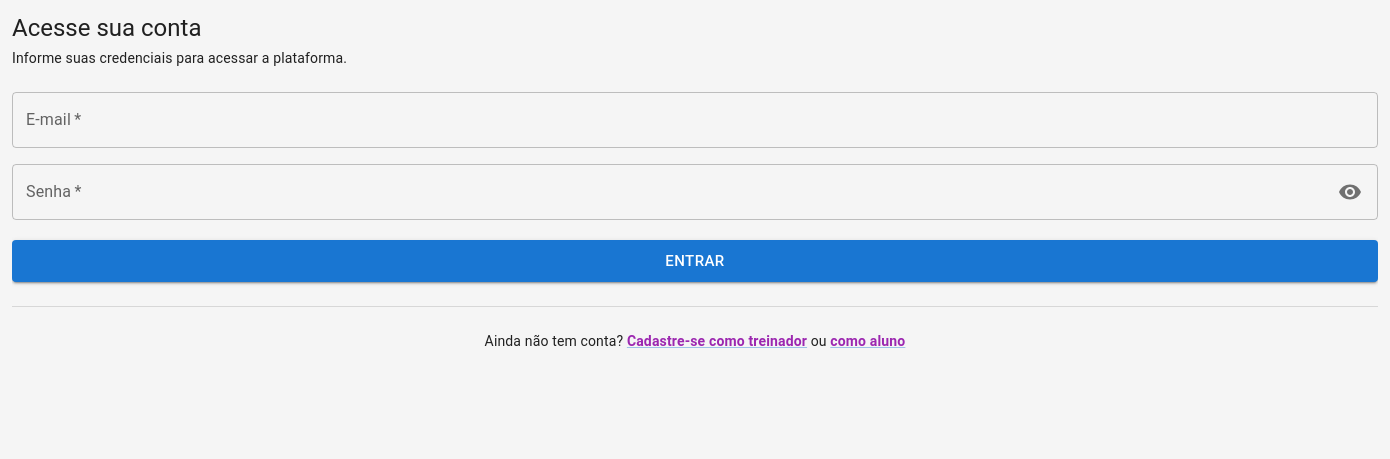
it: Login — bloqueio de treinador › treinador aguardando aprovação → exibe aviso de análise
In the field labelled "E-mail *": (695, 120) [12,92,1378,148], type "trainer@test.com"
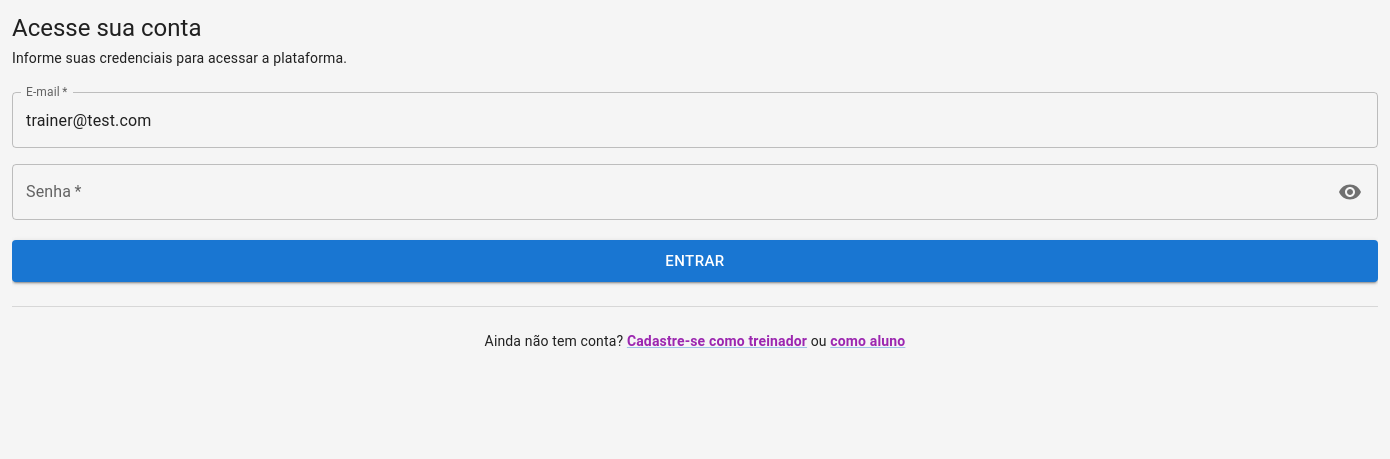
In the password field labelled "Senha *": (668, 192) [12,164,1325,220], type "Senha123"
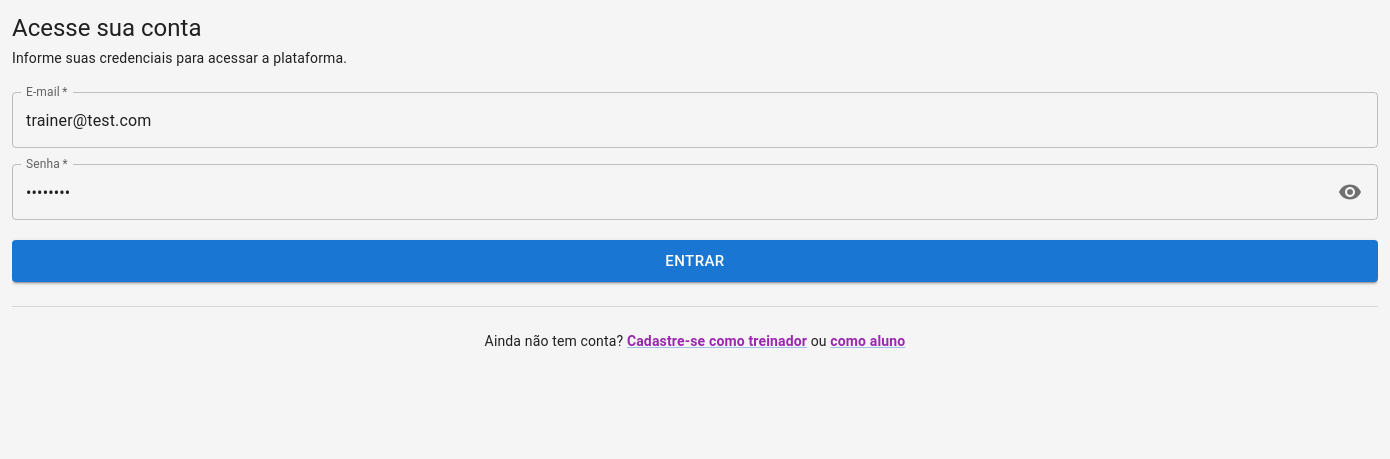
Click the button "Entrar": (695, 261) [12,240,1378,282]
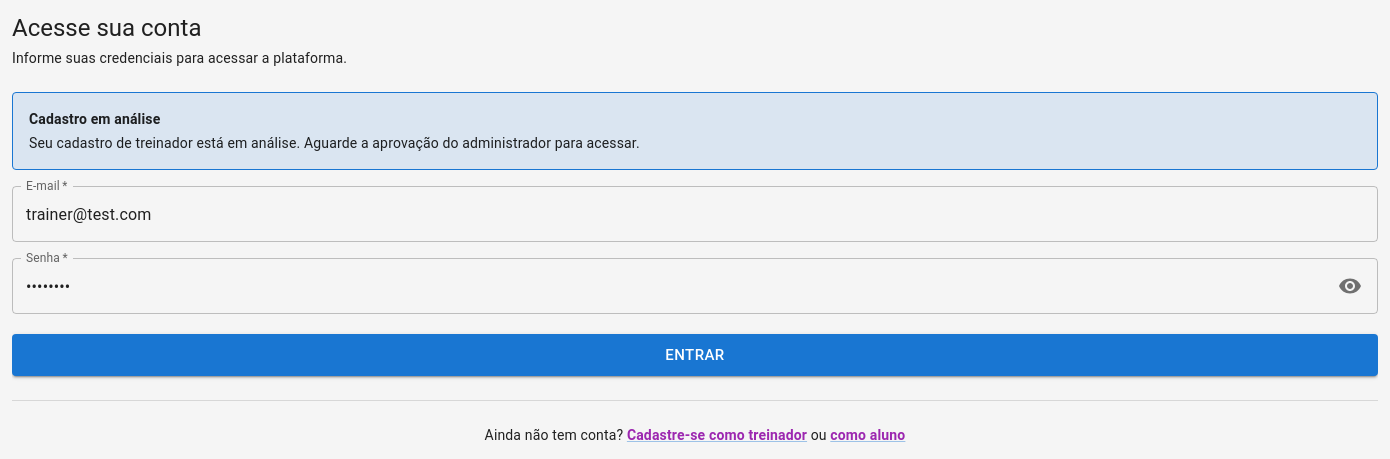
Expected: the text "Cadastro em análise" is shown, [29,111,160,127]
Expected: the text "Aguarde a aprovação do administrador" is shown, [29,135,640,151]
